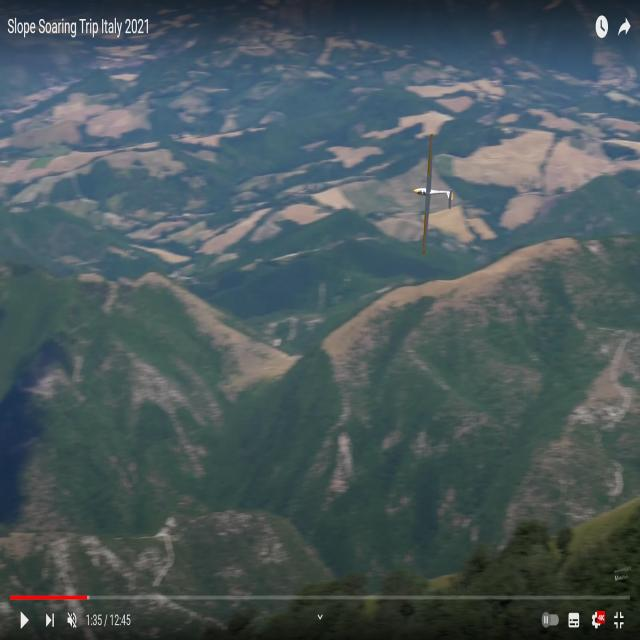iha: (416, 169, 454, 221)
